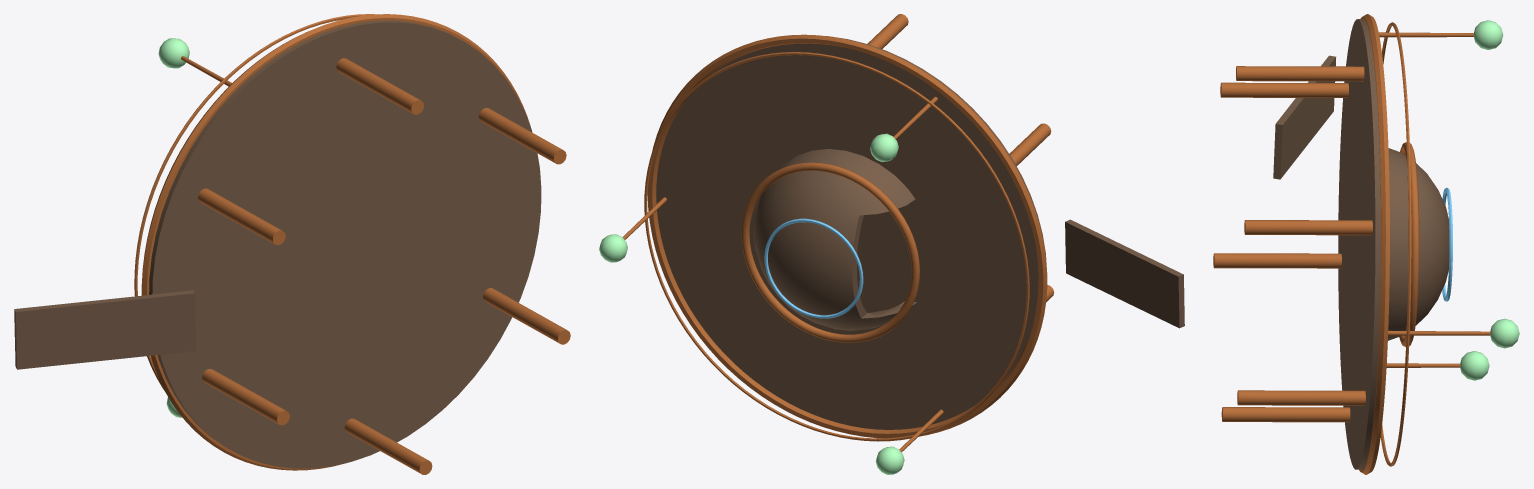
The model's file is treibstation.obj.
3 views of the same model, side by side, from view 1: azimuth 30°, elevation 25°; view 2: azimuth 150°, elevation 25°; view 3: azimuth 270°, elevation 25° (orthographic). The views are drawn at different scales.
Parts seen in each view (by area): view 1: Treibstation; view 2: Treibstation; view 3: Treibstation.
Boxes of the visible parts, left/top/right/bottom form: Treibstation: left=14, top=14, right=570, bottom=474; Treibstation: left=599, top=14, right=1184, bottom=474; Treibstation: left=1213, top=14, right=1519, bottom=474.
Bounding box in the file's own units: 24.41 × 18.39 × 12.22.
